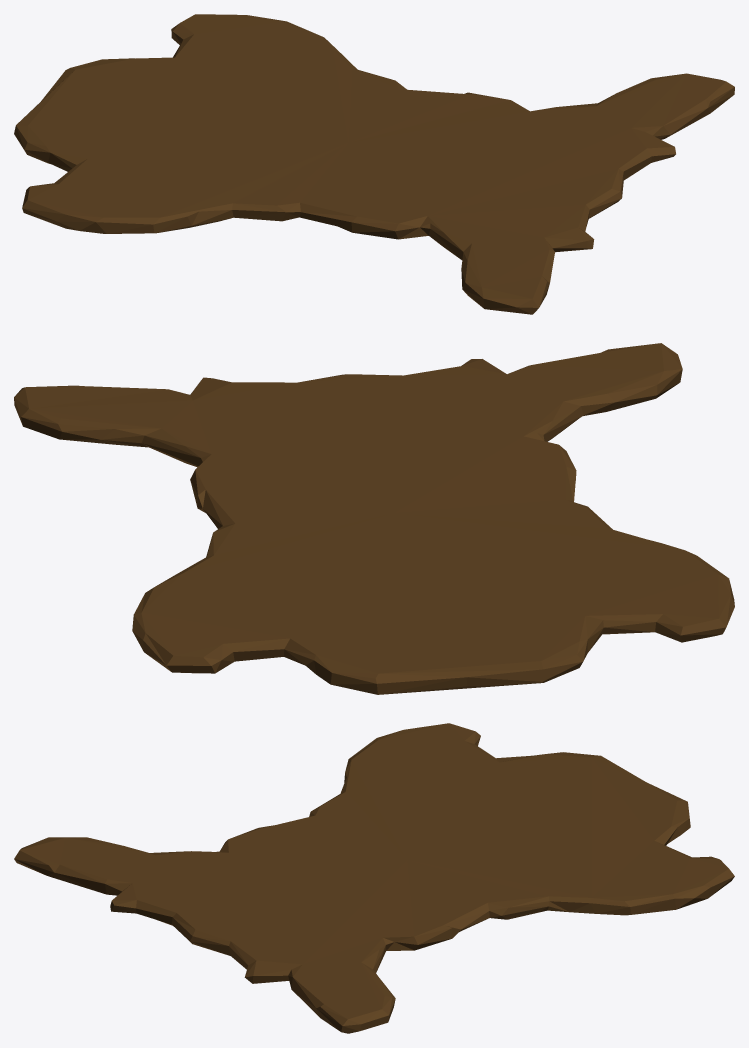
Rendered from carpet.fbx.
The picture shows the model from 3 angles, top to bottom: view 1: azimuth 30°, elevation 25°; view 2: azimuth 150°, elevation 25°; view 3: azimuth 270°, elevation 25°; orthographic projection. The views are drawn at different scales.
Parts seen in each view (by area): view 1: carpet; view 2: carpet; view 3: carpet.
Part boxes in pixels (<box>): carpet: <box>14,14,734,314</box>; carpet: <box>14,343,734,694</box>; carpet: <box>14,723,734,1033</box>.
Bounding box in the file's own units: 3.52 × 0.082 × 3.55.
